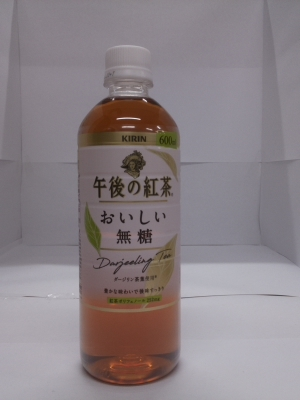gogo_tea: (61, 37, 203, 397)
